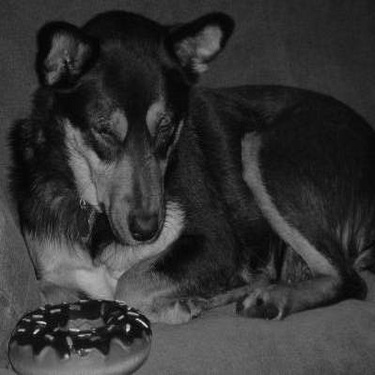dog: (3, 4, 371, 327)
